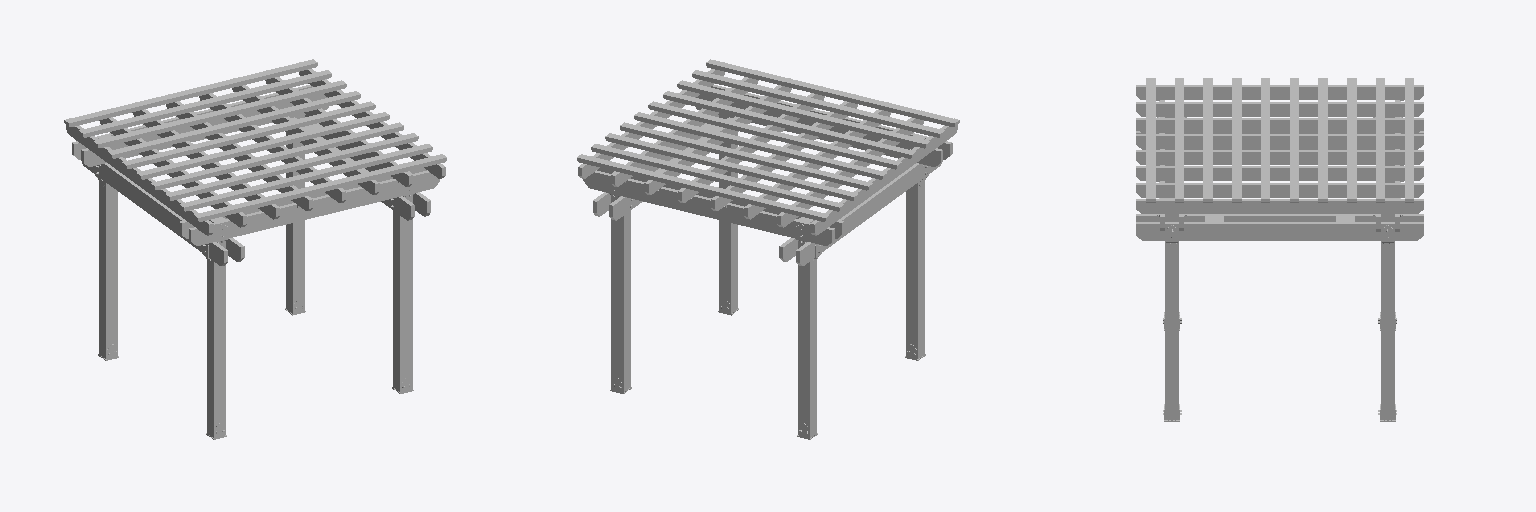
The model's file is santa-monica-10x10-chamfer.obj.
3 renders of one model, left to right at view 1: azimuth 30°, elevation 25°; view 2: azimuth 150°, elevation 25°; view 3: azimuth 270°, elevation 25°, orthographic.
Parts seen in each view (by area): view 1: Mesh147 Component_20_4 Group36 Group1 Model, Mesh159 Component_95_1 Group1 Model, Mesh162 Component_95_2 Group1 Model, Mesh169 Component_95_3 Group1 Model, Mesh158 Component_4_10 Group1 Model, Mesh149 Component_4_1 Group1 Model, Mesh151 Component_4_3 Group1 Model, Mesh152 Component_4_4 Group1 Model, Mesh153 Component_4_5 Group1 Model, Mesh154 Component_4_6 Group1 Model, Mesh156 Component_4_8 Group1 Model, Mesh150 Component_4_2 Group1 Model (+17 smaller); view 2: Mesh60 Component_20_3 Group17 Group1 Model, Mesh176 Component_95_4 Group1 Model, Mesh169 Component_95_3 Group1 Model, Mesh162 Component_95_2 Group1 Model, Mesh154 Component_4_6 Group1 Model, Mesh149 Component_4_1 Group1 Model, Mesh155 Component_4_7 Group1 Model, Mesh150 Component_4_2 Group1 Model, Mesh151 Component_4_3 Group1 Model, Mesh157 Component_4_9 Group1 Model, Mesh152 Component_4_4 Group1 Model, Mesh153 Component_4_5 Group1 Model (+16 smaller); view 3: Mesh15 Component_9_1 Group4 Group1 Model, Mesh37 Component_13_2 Group10 Group1 Model, Mesh42 Component_13_3 Group11 Group1 Model, Mesh52 Component_13_5 Group13 Group1 Model, Mesh59 Component_13_6 Group16 Group1 Model, Mesh47 Component_13_4 Group12 Group1 Model, Mesh82 Component_13_7 Group20 Group1 Model, Mesh32 Component_13_1 Group9 Group1 Model, Mesh87 Component_13_8 Group21 Group1 Model, Mesh159 Component_95_1 Group1 Model, Mesh176 Component_95_4 Group1 Model, Mesh121 Component_9_3 Group30 Group1 Model (+10 smaller).
Boxes of the visible parts, x1,y1,x2,y2 form: Mesh147 Component_20_4 Group36 Group1 Model: [189, 170, 439, 245]; Mesh159 Component_95_1 Group1 Model: [393, 171, 412, 392]; Mesh162 Component_95_2 Group1 Model: [207, 217, 225, 437]; Mesh169 Component_95_3 Group1 Model: [99, 136, 117, 358]; Mesh158 Component_4_10 Group1 Model: [165, 133, 418, 200]; Mesh149 Component_4_1 Group1 Model: [93, 80, 346, 147]; Mesh151 Component_4_3 Group1 Model: [136, 112, 389, 179]; Mesh152 Component_4_4 Group1 Model: [107, 91, 360, 158]; Mesh153 Component_4_5 Group1 Model: [179, 144, 432, 211]; Mesh154 Component_4_6 Group1 Model: [122, 101, 375, 168]; Mesh156 Component_4_8 Group1 Model: [64, 59, 317, 126]; Mesh150 Component_4_2 Group1 Model: [151, 122, 403, 189]; Mesh60 Component_20_3 Group17 Group1 Model: [583, 170, 834, 245]; Mesh176 Component_95_4 Group1 Model: [611, 171, 630, 392]; Mesh169 Component_95_3 Group1 Model: [798, 217, 816, 437]; Mesh162 Component_95_2 Group1 Model: [906, 136, 924, 358]; Mesh154 Component_4_6 Group1 Model: [634, 112, 887, 179]; Mesh149 Component_4_1 Group1 Model: [605, 133, 858, 200]; Mesh155 Component_4_7 Group1 Model: [706, 59, 959, 126]; Mesh150 Component_4_2 Group1 Model: [663, 91, 916, 158]; Mesh151 Component_4_3 Group1 Model: [648, 101, 901, 169]; Mesh157 Component_4_9 Group1 Model: [591, 144, 844, 211]; Mesh152 Component_4_4 Group1 Model: [620, 122, 872, 190]; Mesh153 Component_4_5 Group1 Model: [692, 70, 944, 137]; Mesh15 Component_9_1 Group4 Group1 Model: [1136, 222, 1423, 240]; Mesh37 Component_13_2 Group10 Group1 Model: [1136, 199, 1423, 213]; Mesh42 Component_13_3 Group11 Group1 Model: [1136, 166, 1423, 180]; Mesh52 Component_13_5 Group13 Group1 Model: [1136, 150, 1423, 164]; Mesh59 Component_13_6 Group16 Group1 Model: [1136, 85, 1423, 99]; Mesh47 Component_13_4 Group12 Group1 Model: [1136, 134, 1423, 148]; Mesh82 Component_13_7 Group20 Group1 Model: [1136, 118, 1423, 132]; Mesh32 Component_13_1 Group9 Group1 Model: [1136, 183, 1423, 197]; Mesh87 Component_13_8 Group21 Group1 Model: [1136, 102, 1423, 116]; Mesh159 Component_95_1 Group1 Model: [1165, 214, 1178, 421]; Mesh176 Component_95_4 Group1 Model: [1381, 214, 1394, 421]; Mesh121 Component_9_3 Group30 Group1 Model: [1136, 214, 1423, 221].
Bounding box in the file's own units: 120 × 108 × 120.